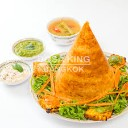dosa: (55, 21, 115, 103)
